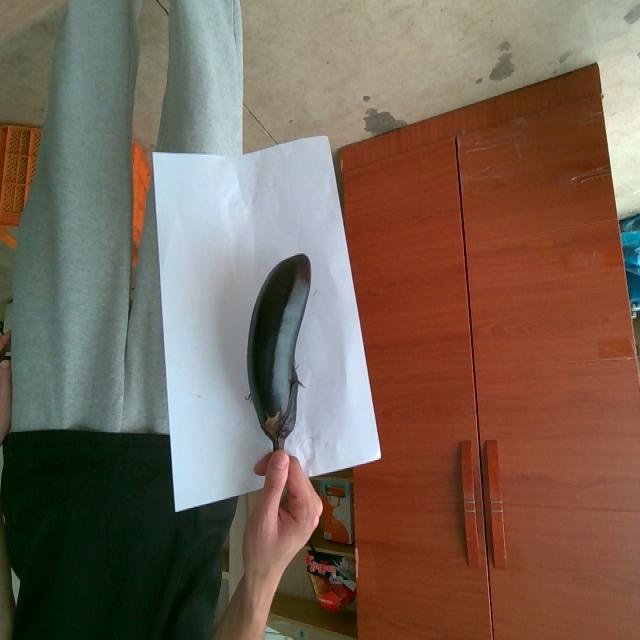Egg plant: (248, 256, 311, 451)
